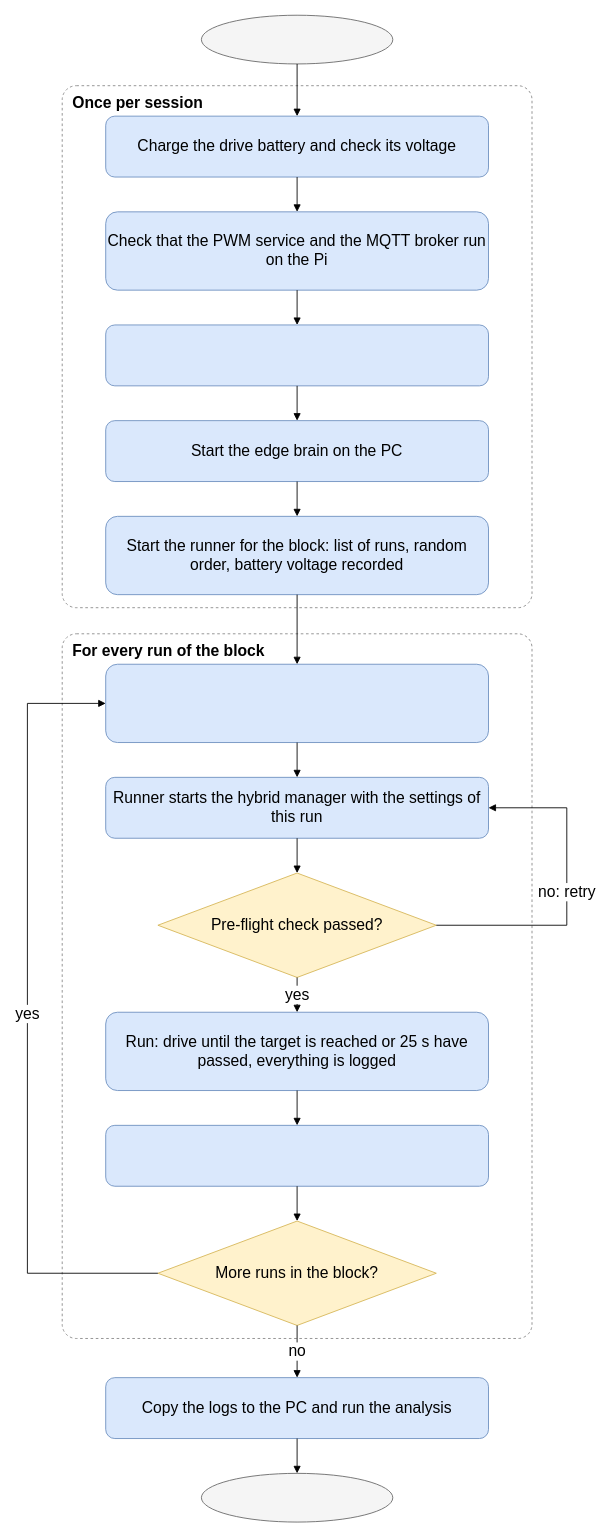
The diagram is 610 pixels wide and 1537 high, and some of its shapes have lost their labels. The shapes that lost their labels are listed below. From the top down, each one's centre as x and y in pixels, then its label:
the point at 297,39: Start of session
the point at 297,355: Start the motor controller, then switch the ESC on
the point at 297,703: Place the car at the start mark (left or right, as shown by the runner)
the point at 297,1155: Enter notes (power reading, manual pass/fail)
the point at 297,1497: End of session
